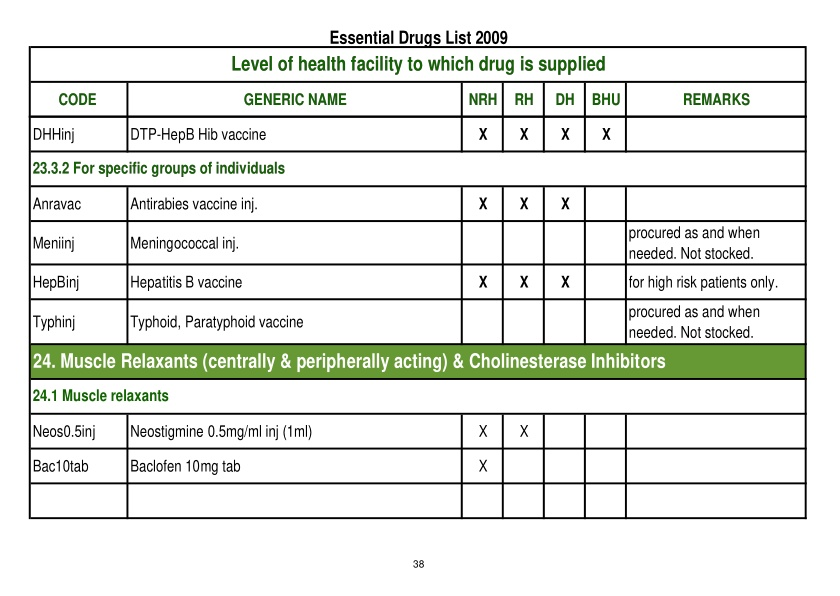merged_cells: (28, 46, 808, 520)
